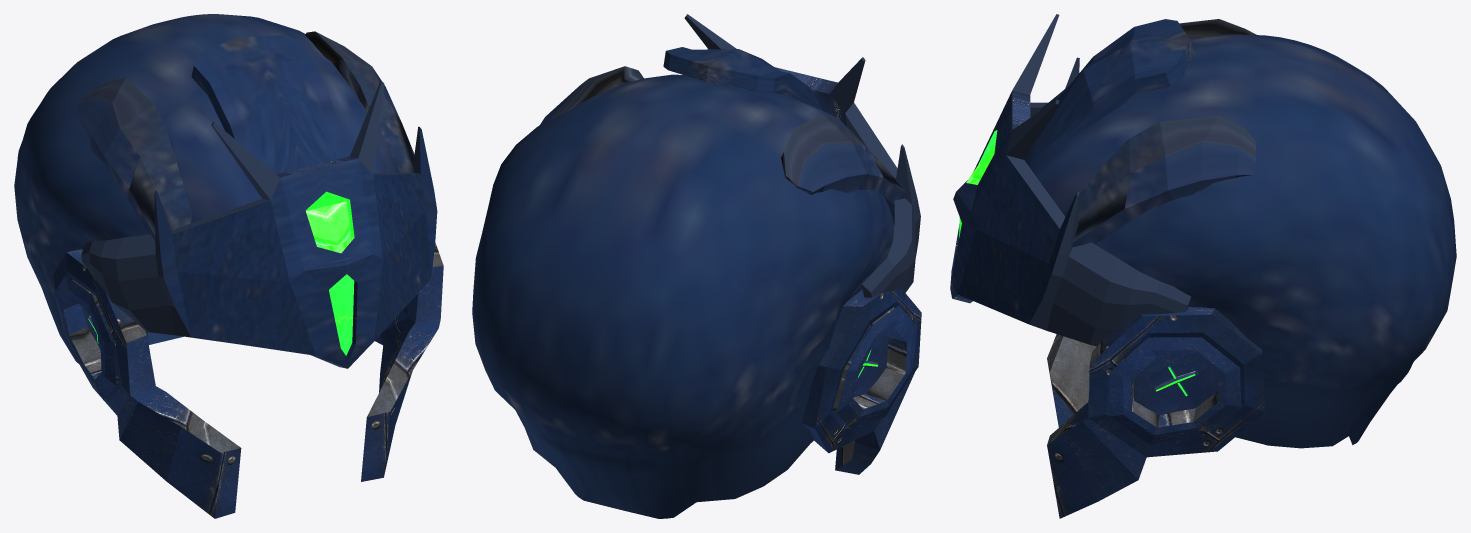
File: helmet3.glb
3 views of the same model, side by side, from view 1: azimuth 30°, elevation 25°; view 2: azimuth 150°, elevation 25°; view 3: azimuth 270°, elevation 25° (orthographic). The views are drawn at different scales.
Parts seen in each view (by area): view 1: Plane.014, Sphere.007, Plane.017, Cube.030, Plane.015; view 2: Sphere.007, Plane.017, Plane.015, Plane.014, Cube.030; view 3: Sphere.007, Plane.017, Plane.014, Plane.015, Cube.030.
Boxes of the visible parts, x1,y1,x2,y2 form: Plane.014: (81, 80, 437, 368); Sphere.007: (14, 14, 399, 363); Plane.017: (53, 243, 443, 518); Cube.030: (191, 35, 342, 174); Plane.015: (73, 31, 416, 240); Sphere.007: (472, 74, 894, 518); Plane.017: (802, 289, 921, 474); Plane.015: (540, 66, 906, 224); Plane.014: (684, 14, 920, 297); Cube.030: (663, 47, 822, 110); Sphere.007: (1024, 34, 1456, 448); Plane.017: (1047, 307, 1265, 518); Plane.014: (950, 14, 1191, 346); Plane.015: (1072, 19, 1256, 247); Cube.030: (1038, 19, 1194, 149).
Size of the model in its own units: 1.16 by 1.39 by 1.46.
Materials: 9 (9 with a texture image).
